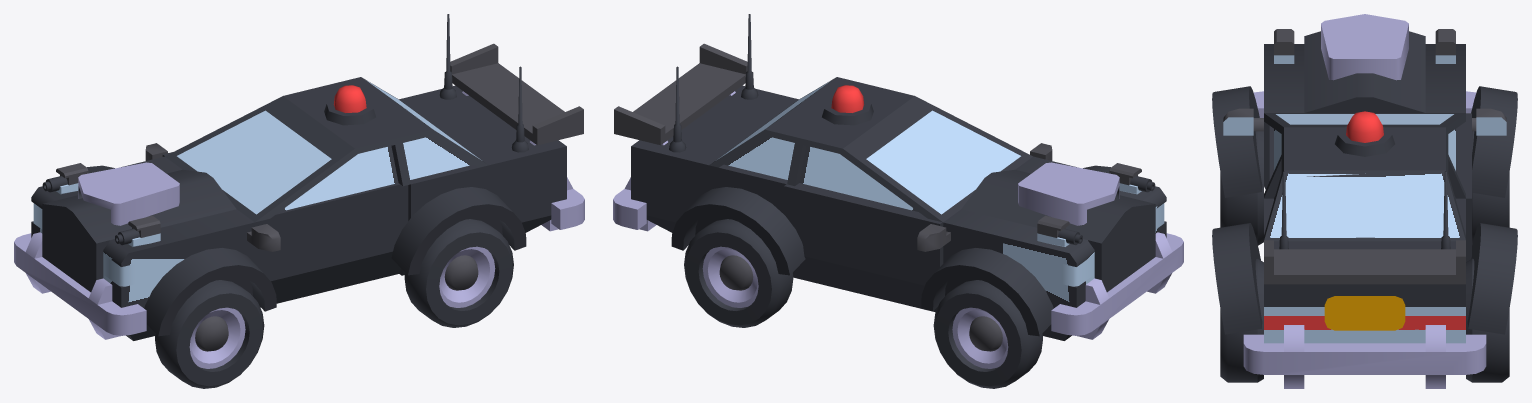
Rendered from police-retro.glb.
3 renders of one model, left to right at view 1: azimuth 30°, elevation 25°; view 2: azimuth 150°, elevation 25°; view 3: azimuth 270°, elevation 25°, orthographic. The views are drawn at different scales.
Parts seen in each view (by area): view 1: body_topSports, wheel_classic (×2), body_frontLuxury, body_standard, body_backSolid, wheel_coverStandard (×2), bumper_detailed (×2), spoiler_fins, body_topBackStandard, detail_engine, blaster_barrel (×2), detail_siren (+2 smaller); view 2: body_topSports, wheel_classic (×2), body_frontLuxury, body_standard, body_backSolid, wheel_coverStandard (×2), bumper_detailed (×2), spoiler_fins, body_topBackStandard, detail_engine, blaster_barrel (×2), detail_siren (+2 smaller); view 3: wheel_coverStandard (×4), body_topBackStandard, body_frontLuxury, body_backSolid, bumper_detailed (×2), spoiler_fins, wheel_classic (×4), body_topSports, detail_engine, detail_licensePlate, detail_siren, detail_mirror (×2) (+3 smaller).
Part boxes in pixels (x1,y1,x2,y2): body_topSports: (165, 84, 410, 222); wheel_classic (×2): (155, 219, 513, 388); body_frontLuxury: (31, 156, 254, 340); body_standard: (162, 152, 408, 307); body_backSolid: (399, 85, 566, 275); wheel_coverStandard (×2): (144, 187, 526, 336); bumper_detailed (×2): (14, 177, 584, 339); spoiler_fins: (450, 43, 583, 145); body_topBackStandard: (330, 77, 488, 179); detail_engine: (78, 162, 179, 225); blaster_barrel (×2): (42, 163, 160, 246); detail_siren: (324, 85, 375, 125); body_topSports: (787, 84, 1032, 222); wheel_classic (×2): (684, 219, 1042, 388); body_frontLuxury: (943, 156, 1166, 340); body_standard: (784, 183, 943, 312); body_backSolid: (631, 85, 798, 232); wheel_coverStandard (×2): (671, 187, 1053, 336); bumper_detailed (×2): (613, 177, 1183, 339); spoiler_fins: (614, 43, 747, 145); body_topBackStandard: (709, 77, 867, 179); detail_engine: (1018, 162, 1119, 225); blaster_barrel (×2): (1037, 163, 1155, 246); detail_siren: (822, 85, 873, 125); wheel_coverStandard (×4): (1212, 86, 1517, 334); body_topBackStandard: (1264, 153, 1465, 241); body_frontLuxury: (1264, 31, 1465, 189); body_backSolid: (1264, 198, 1465, 343); bumper_detailed (×2): (1243, 91, 1486, 388); spoiler_fins: (1264, 240, 1465, 284); wheel_classic (×4): (1220, 131, 1509, 382); body_topSports: (1264, 113, 1465, 198); detail_engine: (1321, 14, 1408, 80); detail_licensePlate: (1324, 296, 1405, 330); detail_siren: (1335, 111, 1394, 156); detail_mirror (×2): (1223, 108, 1506, 135).
Bounding box in the file's own units: 3.06 × 1.36 × 1.51.
1 material, 1 textured.
